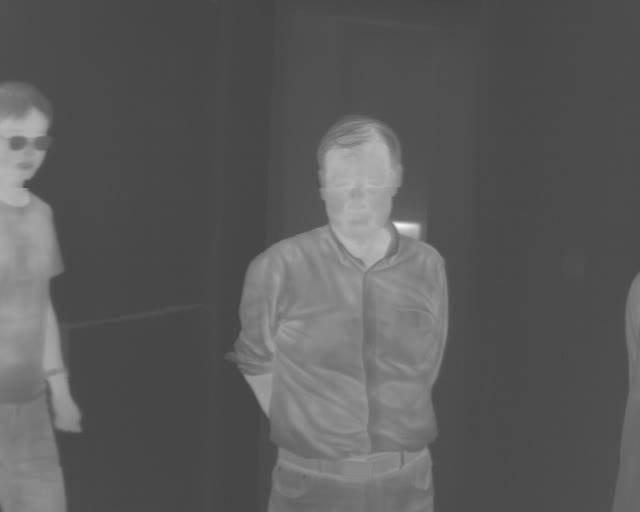face: (314, 113, 404, 245), (1, 80, 52, 182)
